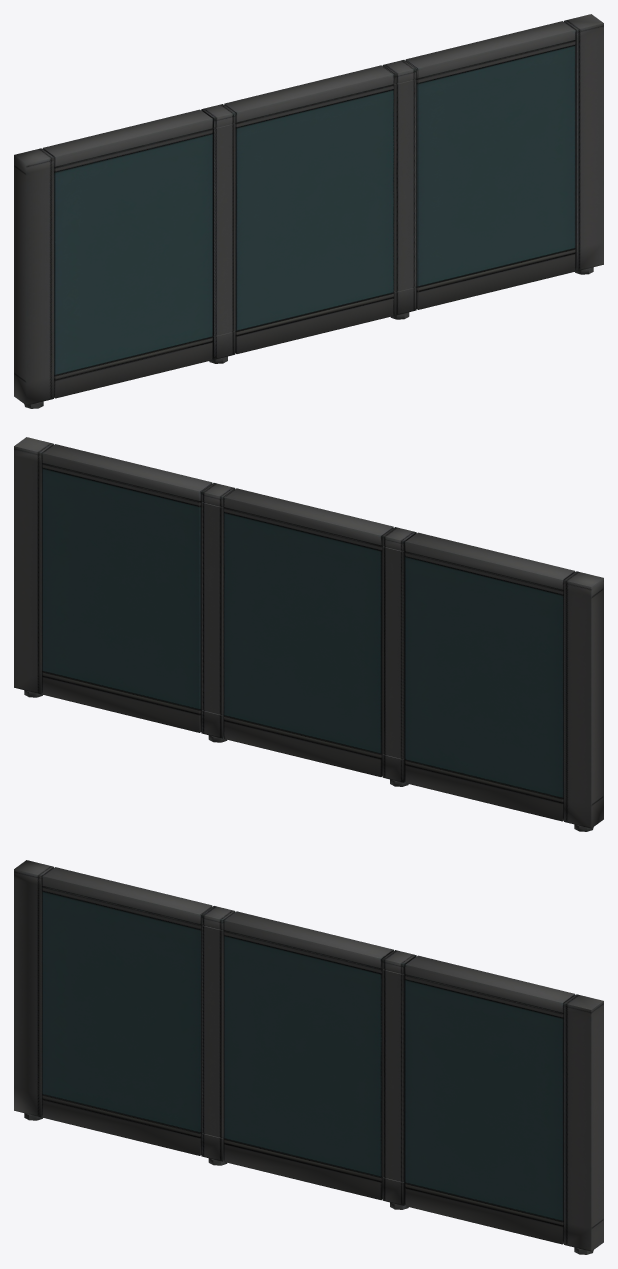
File: ENV_LowPartition_3m_v001.fbx
The picture shows the model from 3 angles, top to bottom: view 1: azimuth 30°, elevation 25°; view 2: azimuth 150°, elevation 25°; view 3: azimuth 330°, elevation 25°; orthographic projection.
Visible parts, largest first — view 1: 큐브_001; view 2: 큐브_001; view 3: 큐브_001.
Part boxes in pixels (x1=…): 큐브_001: x1=14, y1=14, x2=603, y2=408; 큐브_001: x1=14, y1=437, x2=603, y2=831; 큐브_001: x1=14, y1=860, x2=603, y2=1254.
Size of the model in its own units: 291 by 120 by 10.97.
1 material, 1 textured.
